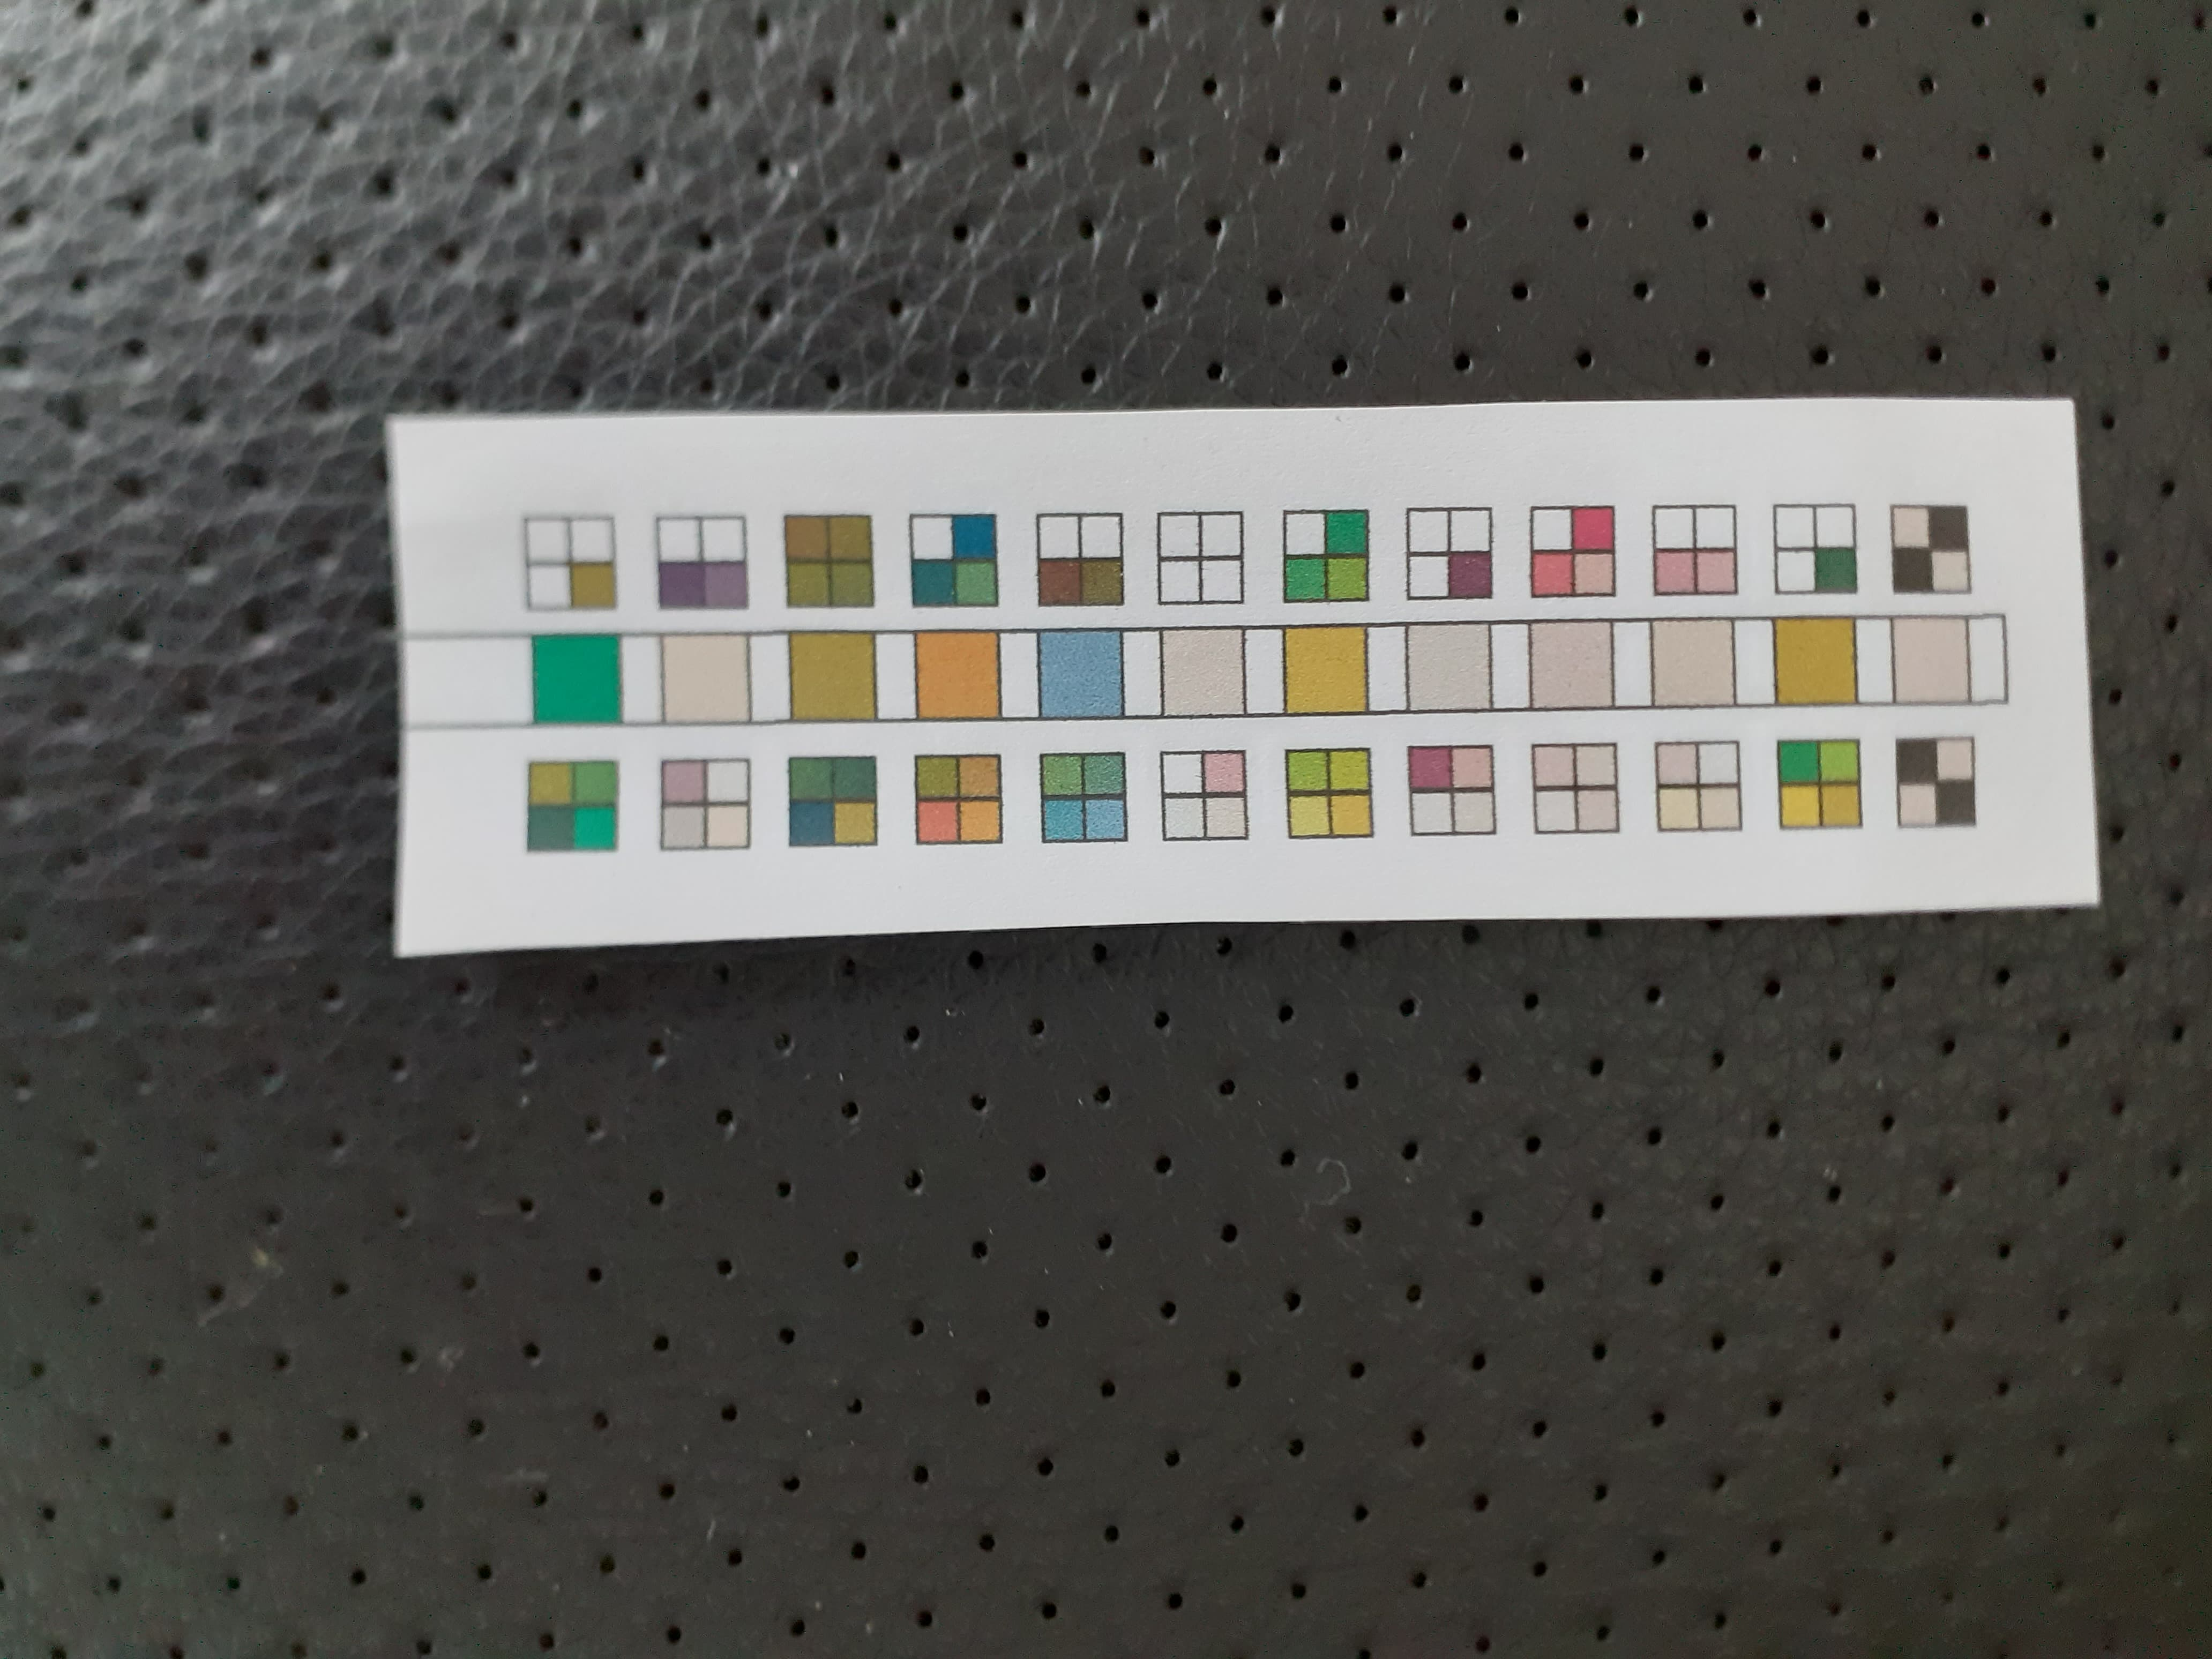tester: (388, 415, 2088, 927)
